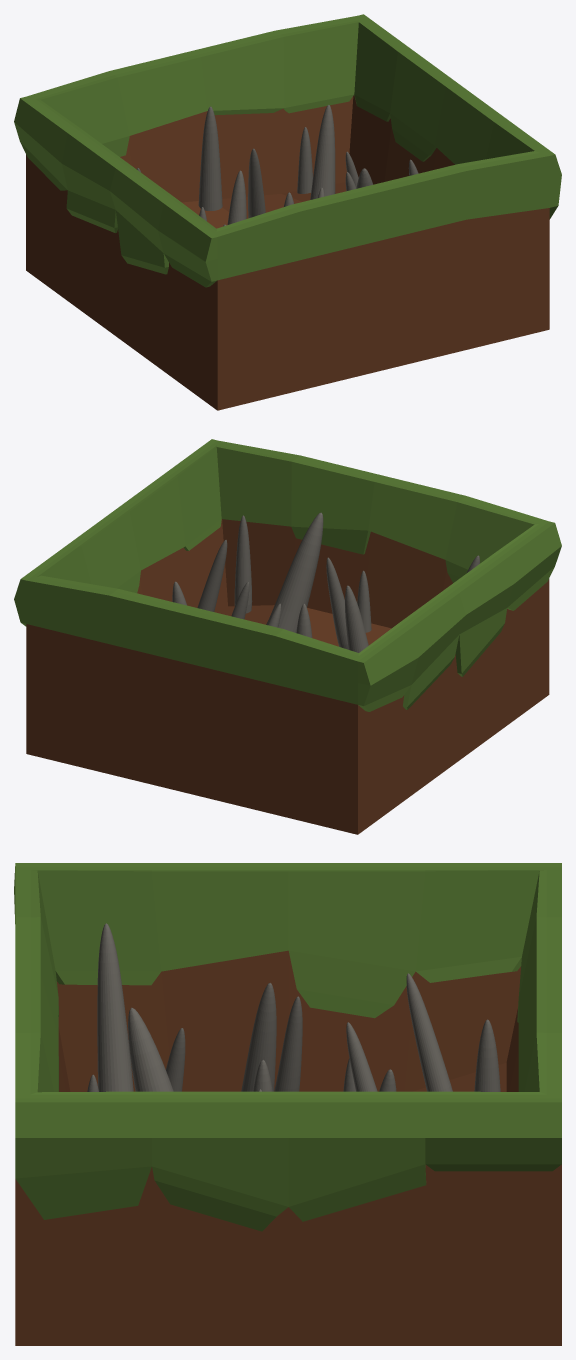
The model's file is GrassBlock(Spikes).fbx.
3 views of the same model, one above another, from view 1: azimuth 30°, elevation 25°; view 2: azimuth 150°, elevation 25°; view 3: azimuth 270°, elevation 25° (orthographic). The views are drawn at different scales.
Parts seen in each view (by area): view 1: GrassBlock(Spikes); view 2: GrassBlock(Spikes); view 3: GrassBlock(Spikes).
Boxes of the visible parts, x1,y1,x2,y2 form: GrassBlock(Spikes): [14, 14, 561, 410]; GrassBlock(Spikes): [14, 439, 561, 834]; GrassBlock(Spikes): [14, 863, 561, 1345].
Bounding box in the file's own units: 430 × 206 × 401.
